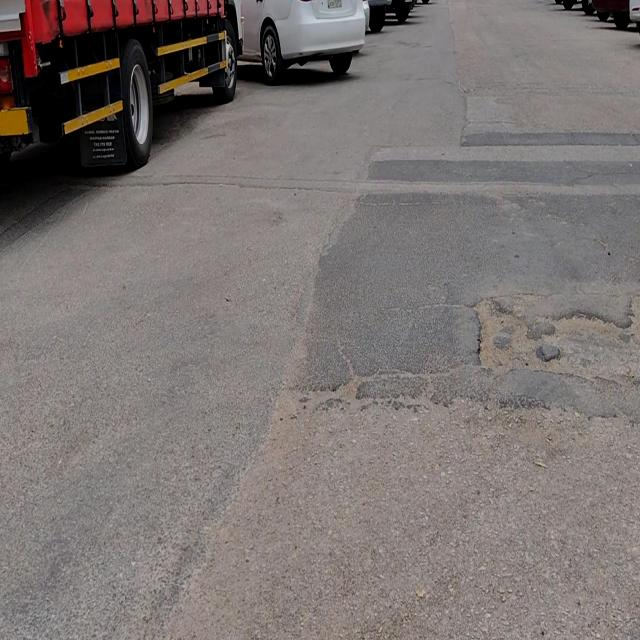Potholes: (467, 292, 559, 376)
